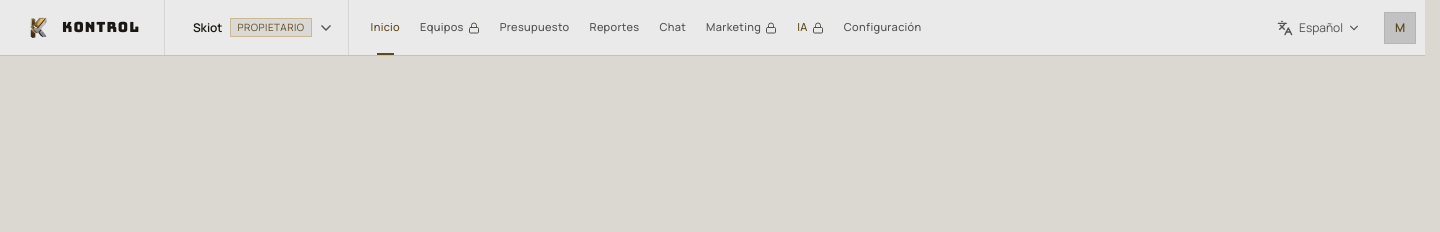
it: AppNavbar.vue — sesión e idioma › el menú muestra el nombre y el email de quien ha entrado
Click the button with class "appnav-avatar" at x=1400, y=28, box [1384,12,1416,44]
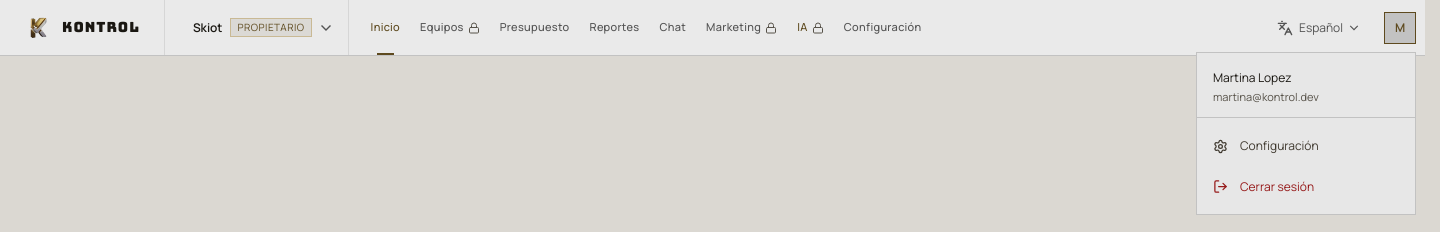
Check: the text with class "ud-name" reads "Martina Lopez", box [1213,68,1292,86]
Check: the text with class "ud-email" reads "martina@kontrol.dev", box [1213,88,1319,104]
